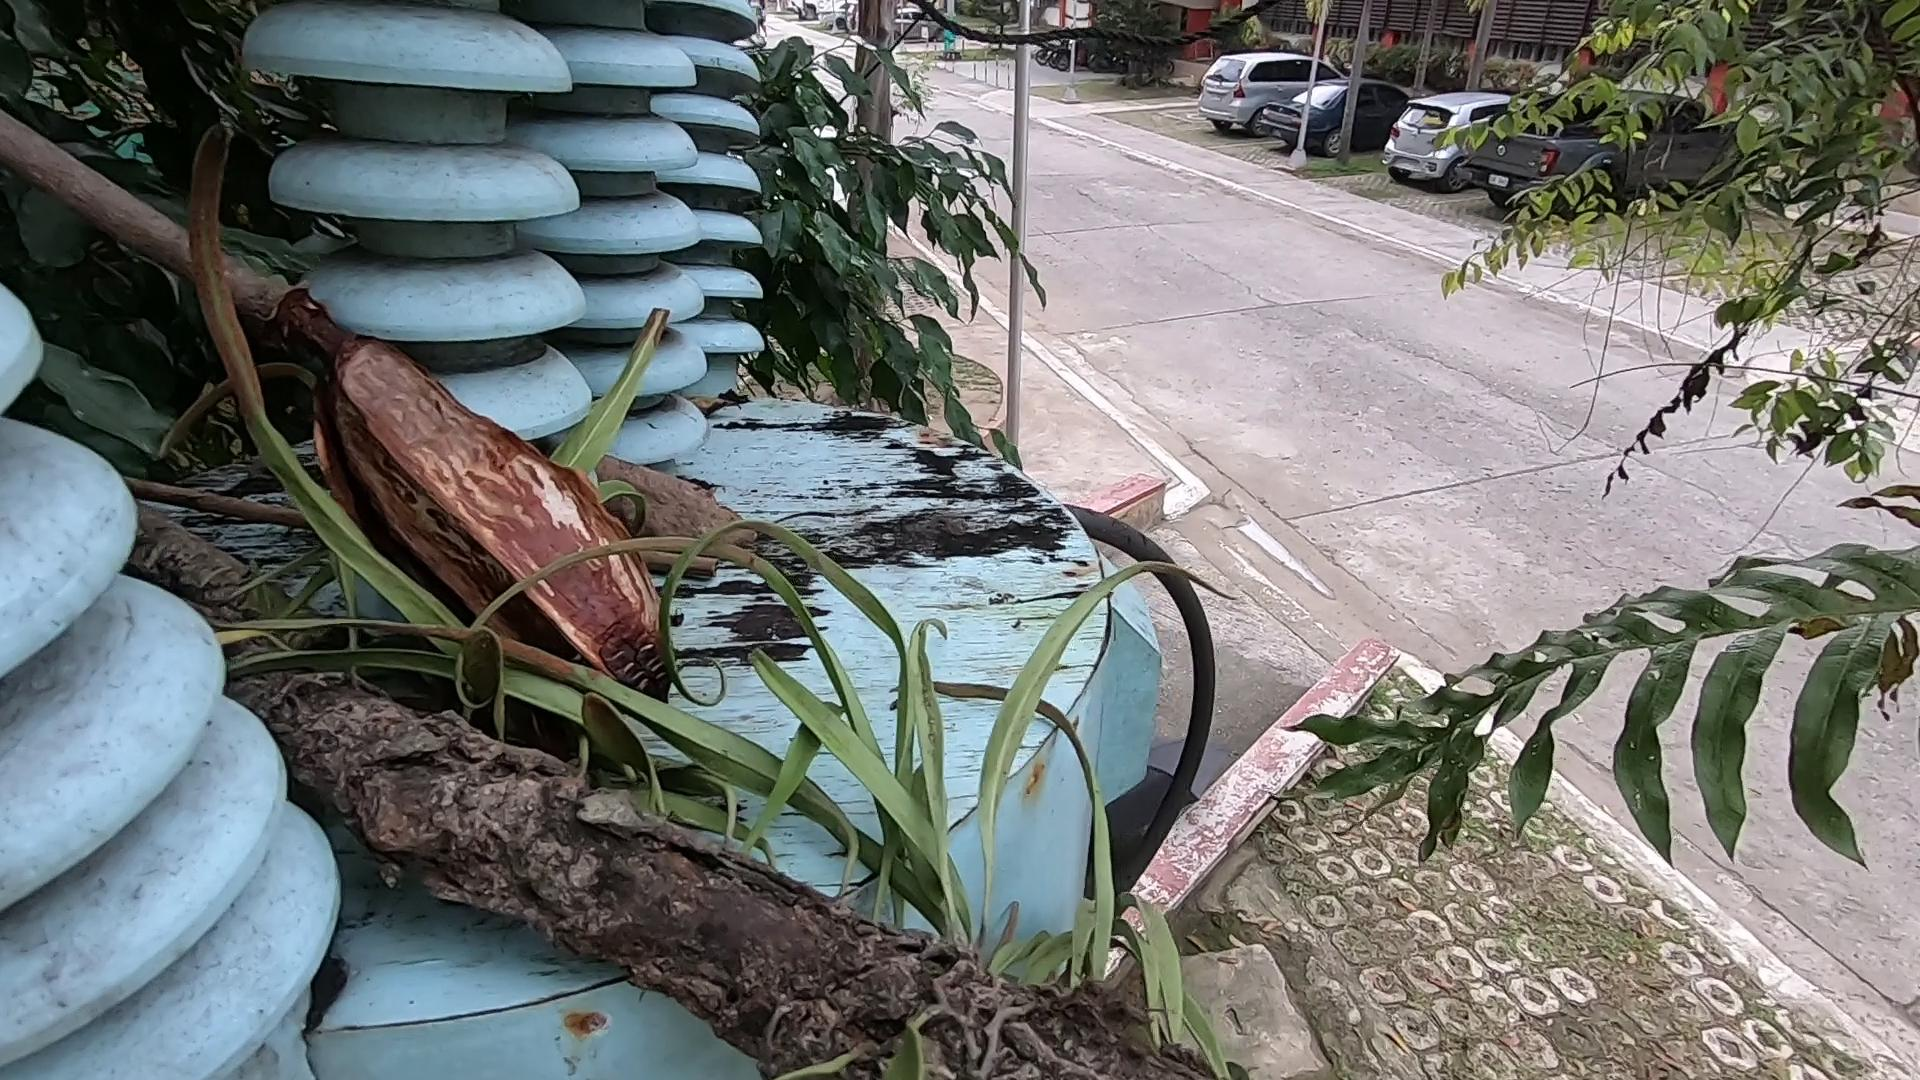branch with leaves: (153, 542, 1087, 1080)
leaf: (683, 375, 752, 448)
mahogany fruit: (167, 316, 769, 674)
tree branch: (3, 92, 313, 611), (124, 476, 723, 589)
